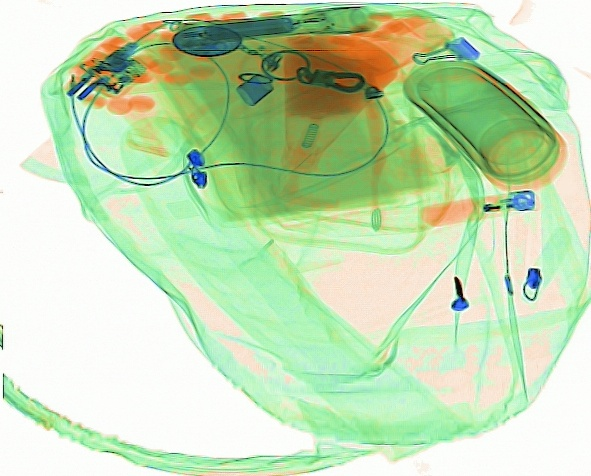lighter: (420, 188, 535, 226)
